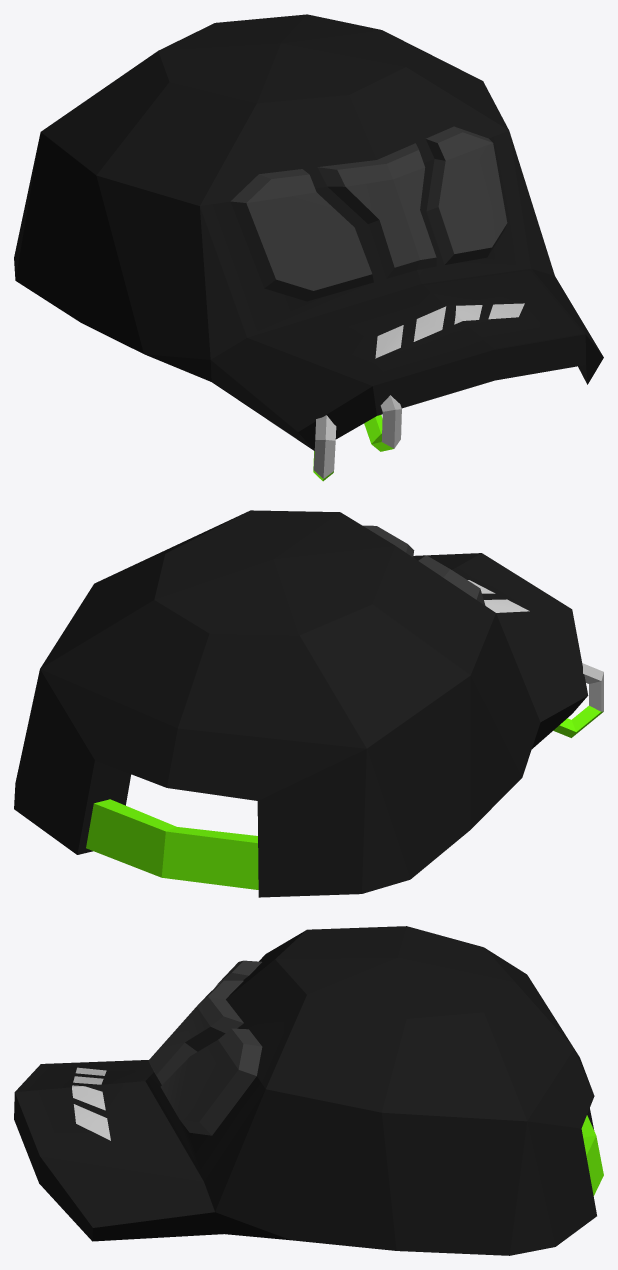
Rendered from SM_Chr_Attach_Hat_03.fbx.
The picture shows the model from 3 angles, top to bottom: view 1: azimuth 30°, elevation 25°; view 2: azimuth 150°, elevation 25°; view 3: azimuth 270°, elevation 25°; orthographic projection. The views are drawn at different scales.
Parts seen in each view (by area): view 1: SM_Chr_Attach_Hat_03; view 2: SM_Chr_Attach_Hat_03; view 3: SM_Chr_Attach_Hat_03.
Part boxes in pixels (<box>): SM_Chr_Attach_Hat_03: <box>14,14,603,481</box>; SM_Chr_Attach_Hat_03: <box>14,510,603,897</box>; SM_Chr_Attach_Hat_03: <box>14,926,603,1255</box>.
Bounding box in the file's own units: 27.7 × 18.19 × 38.94.
